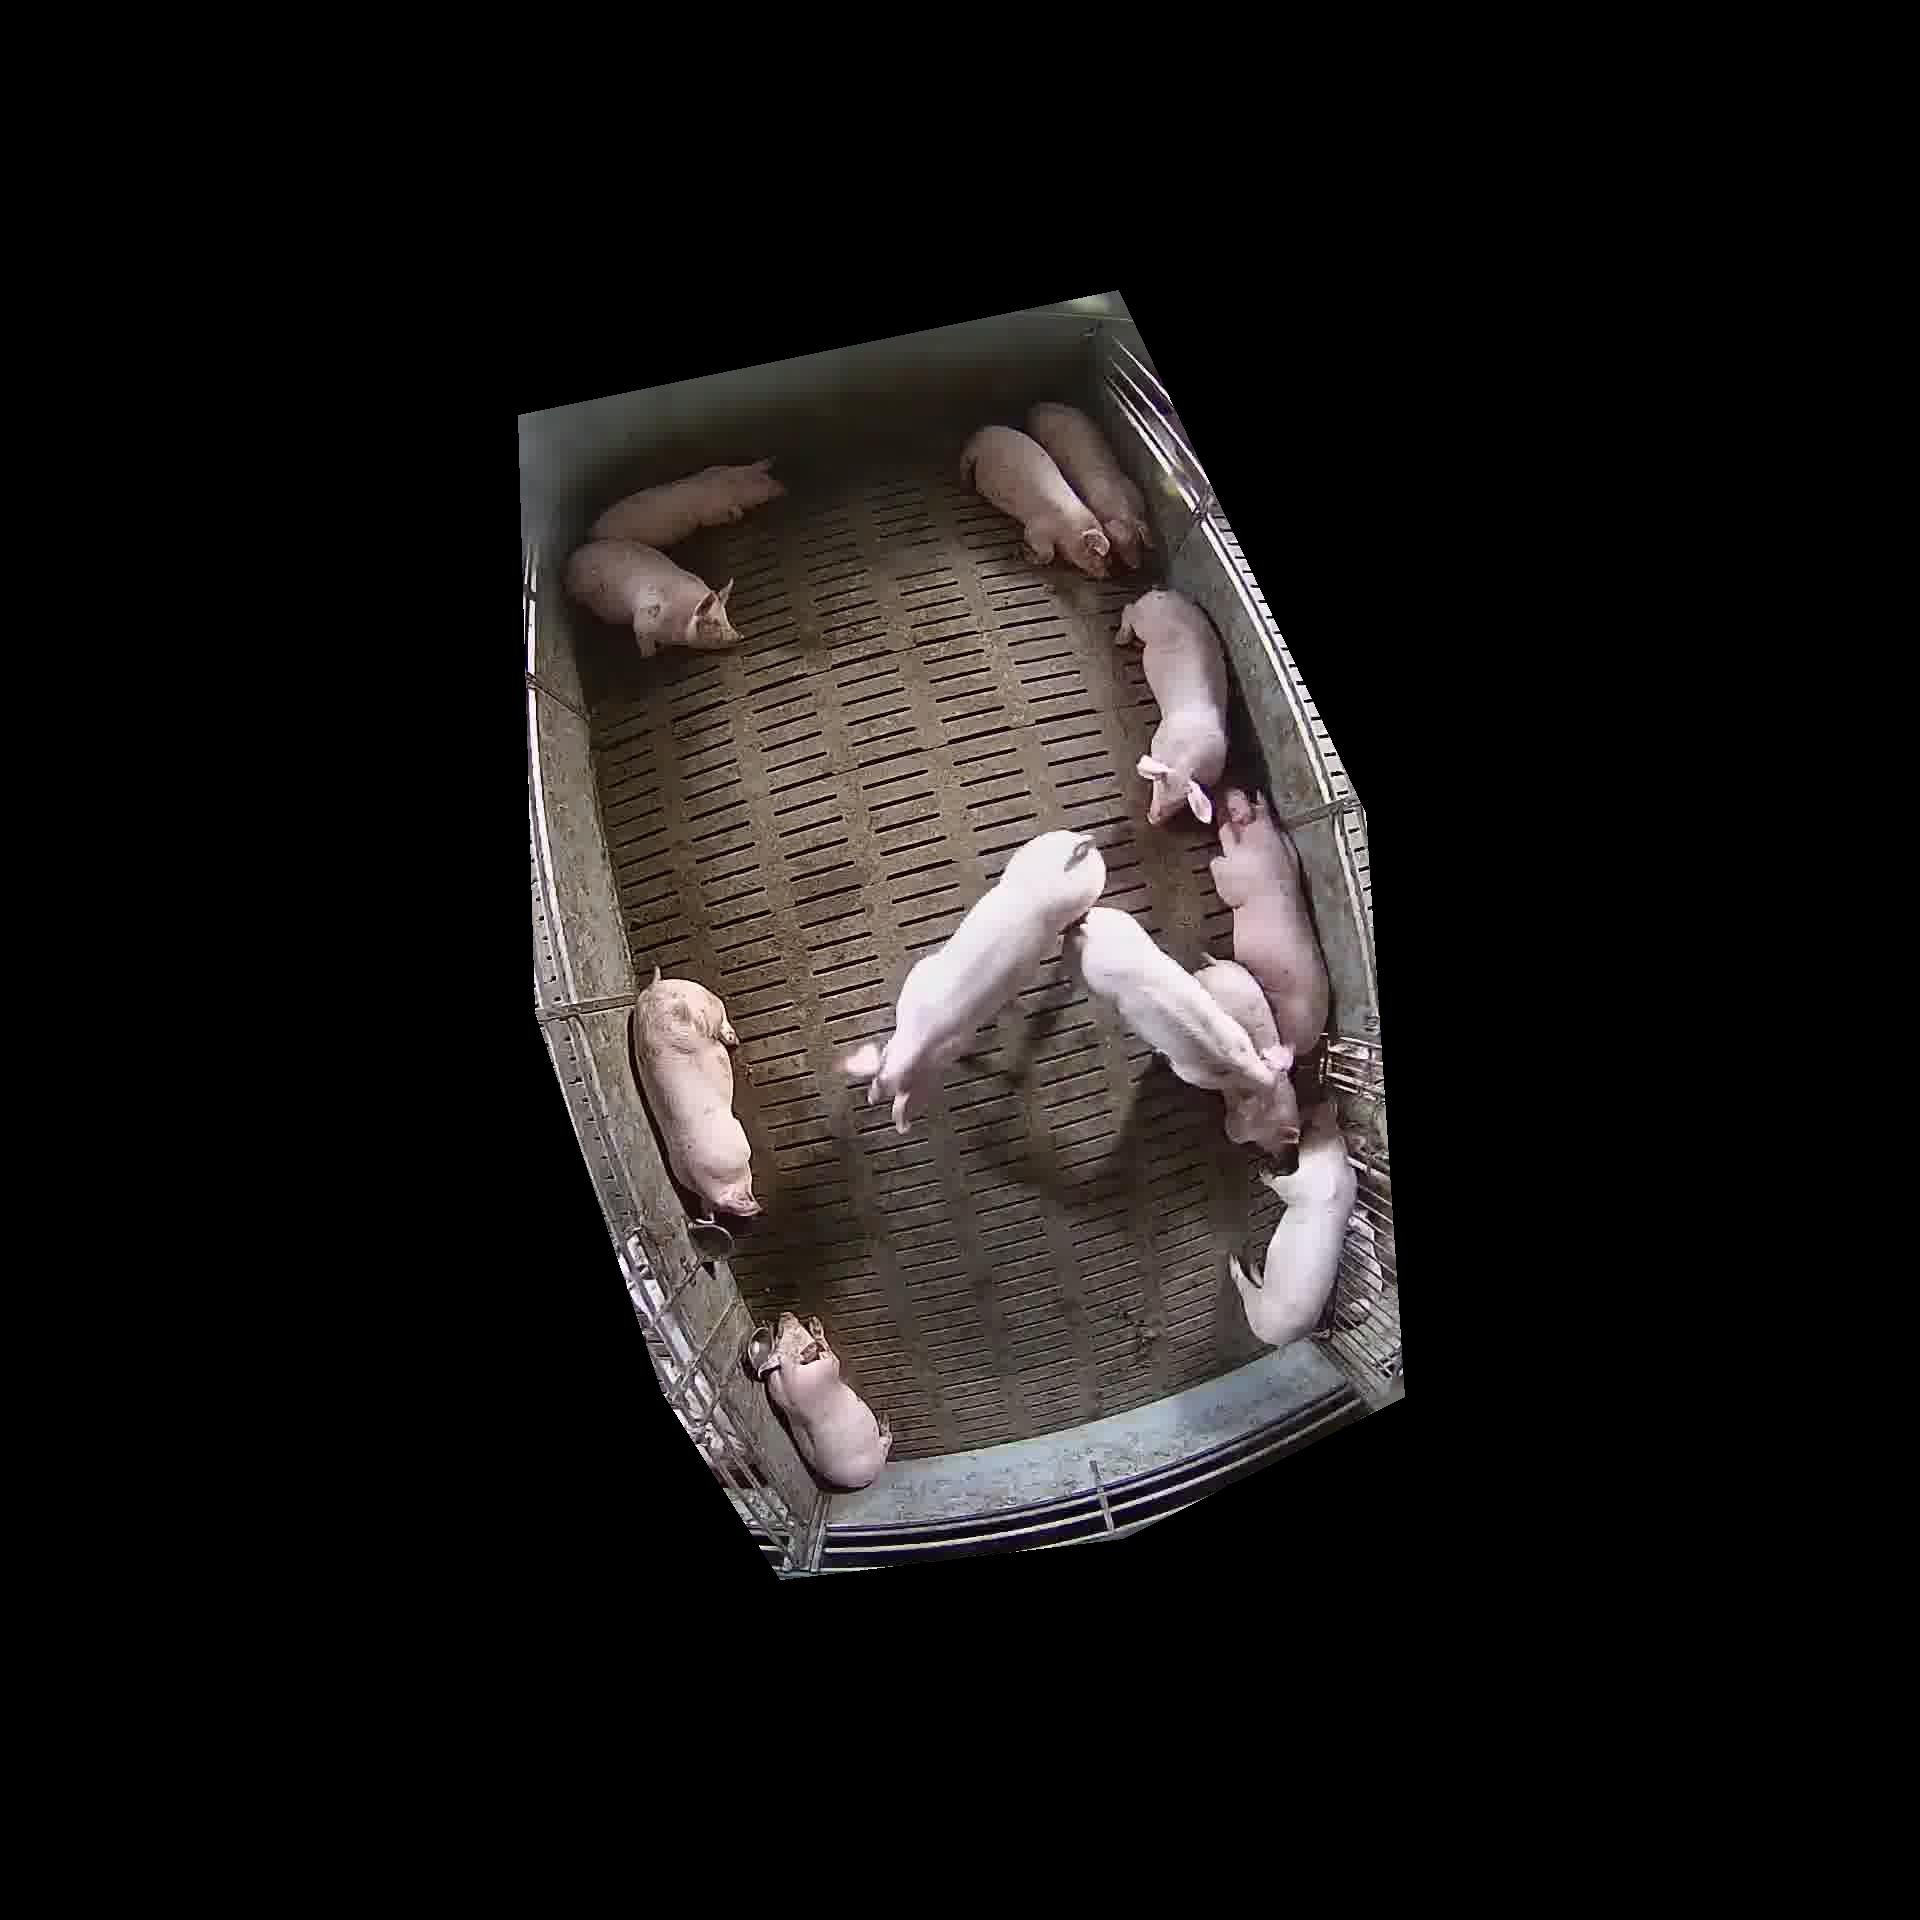pig: (837, 830, 1104, 1131), (1073, 905, 1280, 1097), (1210, 788, 1329, 1055), (1231, 1102, 1356, 1343), (635, 978, 760, 1217), (1116, 591, 1227, 825), (749, 1313, 891, 1487), (962, 425, 1108, 577), (1196, 962, 1301, 1160), (564, 540, 738, 656), (1027, 403, 1148, 568), (591, 459, 784, 549)
